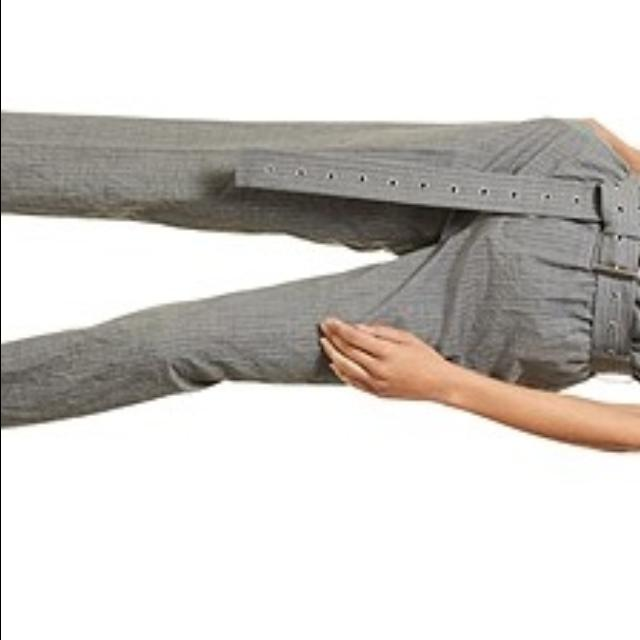wool: (0, 90, 640, 468)
